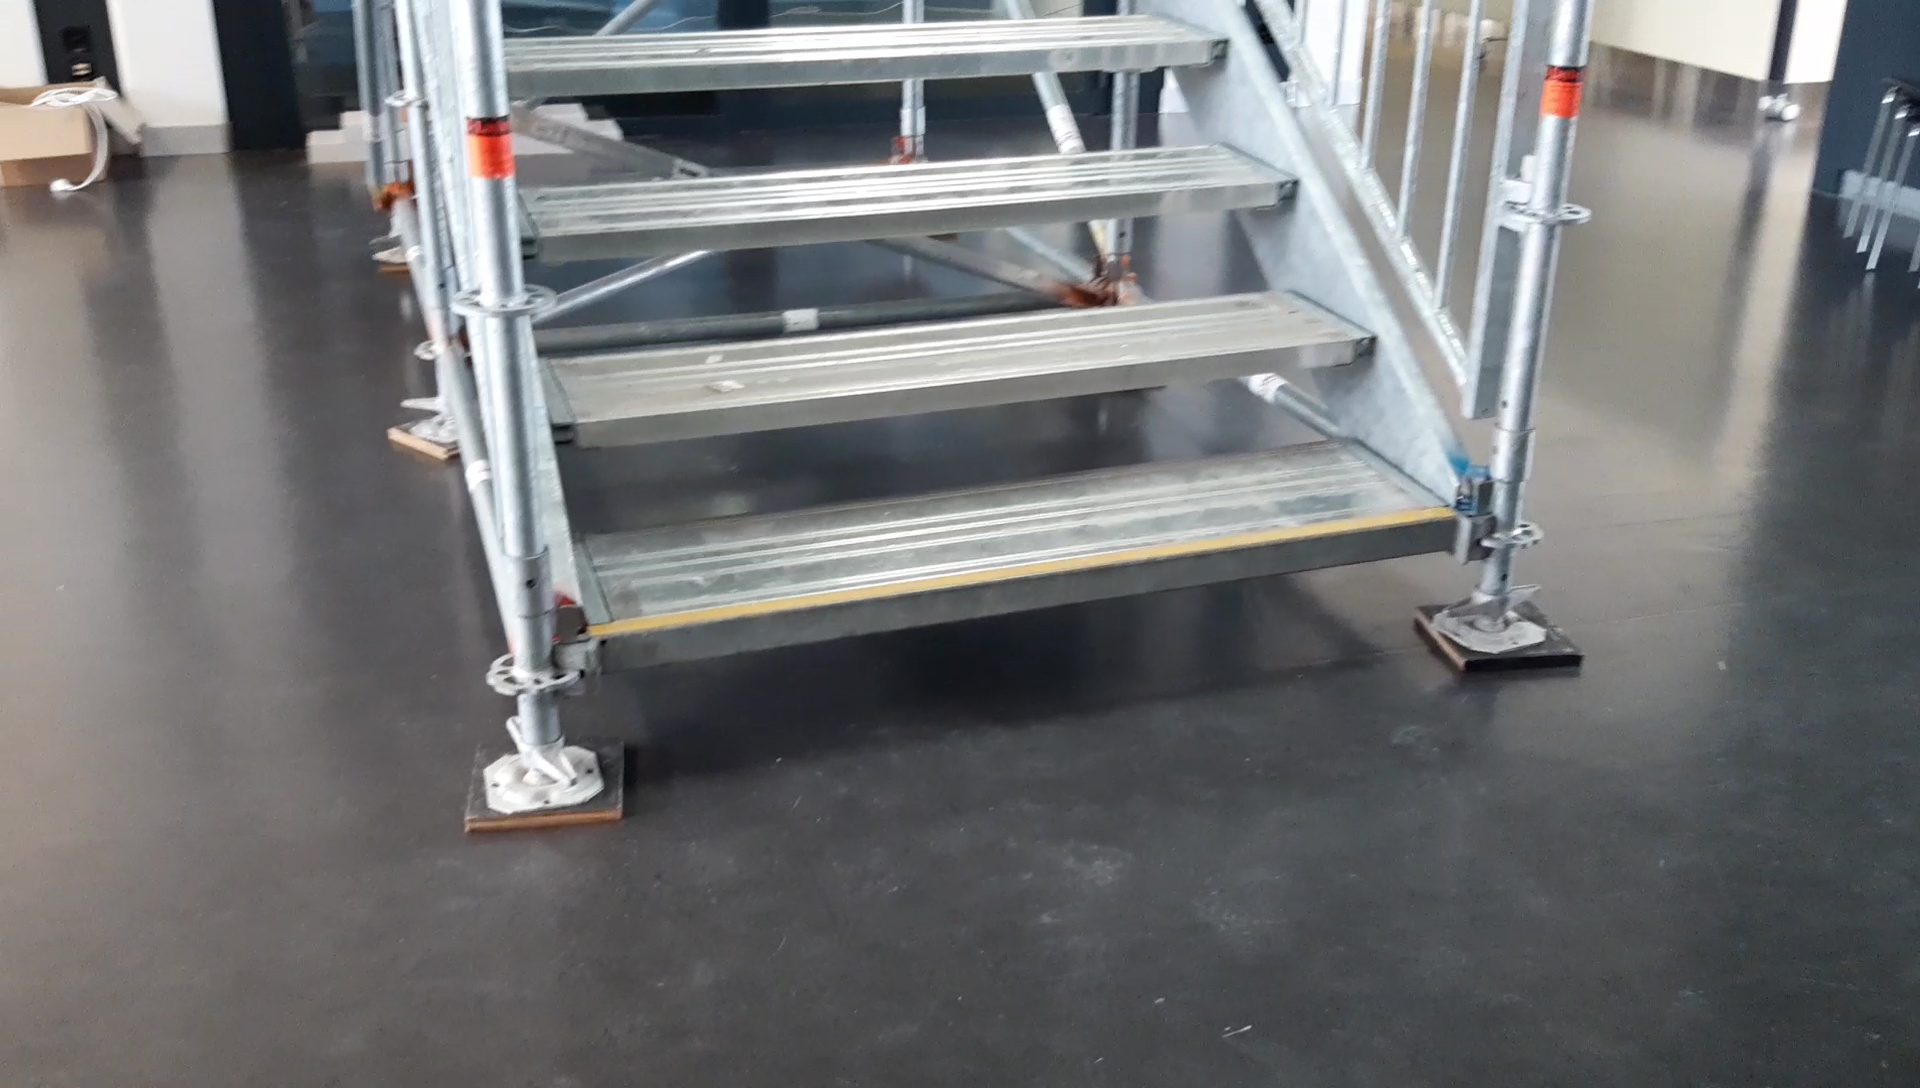edge: (603, 518, 1452, 678), (555, 335, 1373, 444), (516, 179, 1302, 265), (505, 34, 1228, 94)
stairs: (462, 5, 1582, 823)
